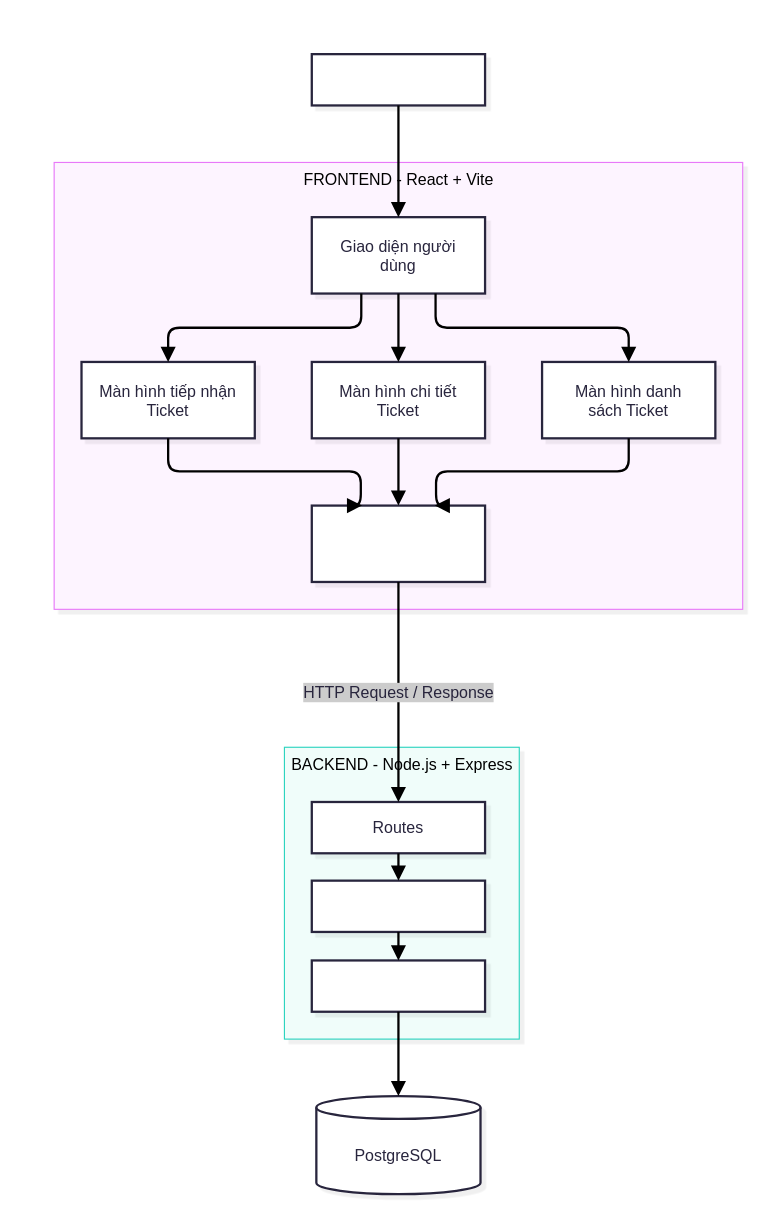
This 767x1219 diagram has some shape labels left out. Each missing label, with the centre of its shape:
"API Client - Axios" belongs at [400,545].
"Người dùng" belongs at [400,81].
"Repositories" belongs at [400,988].
"Services" belongs at [400,908].
